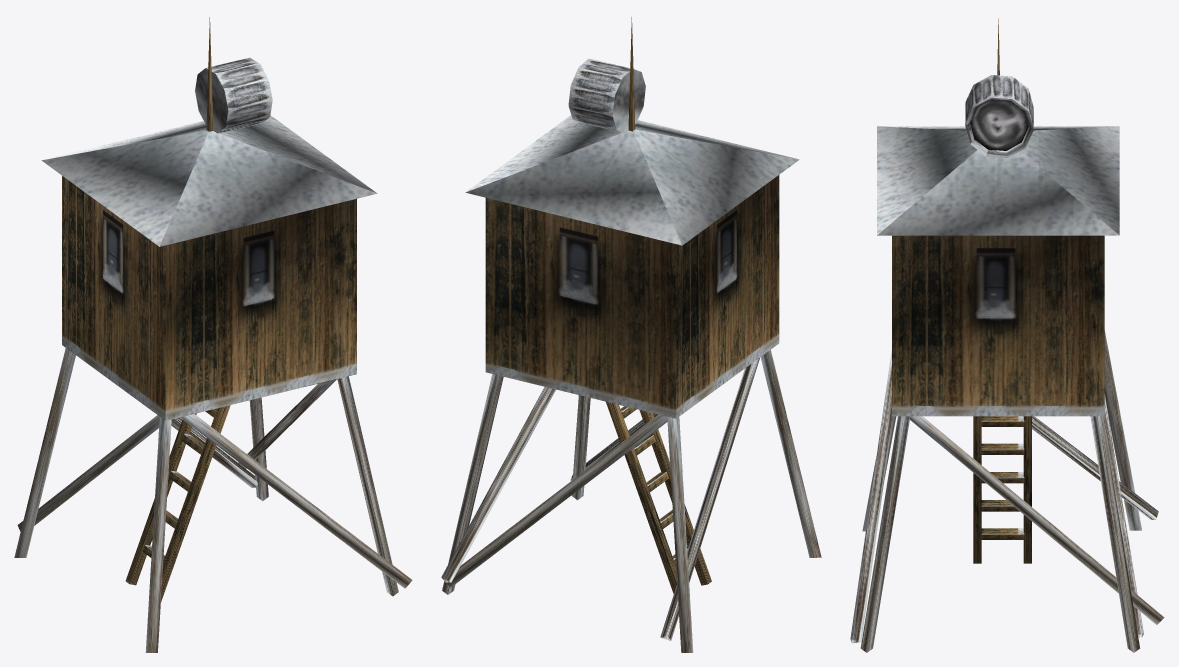
The model's file is Civilian - Civilian Building - Wood Tower - Snow - CBTower_s.glb.
3 renders of one model, left to right at view 1: azimuth 30°, elevation 25°; view 2: azimuth 150°, elevation 25°; view 3: azimuth 270°, elevation 25°, orthographic. The views are drawn at different scales.
Parts seen in each view (by area): view 1: CBTOWER_S; view 2: CBTOWER_S; view 3: CBTOWER_S.
Boxes of the visible parts, x1,y1,x2,y2 form: CBTOWER_S: (14, 17, 412, 652); CBTOWER_S: (441, 17, 821, 652); CBTOWER_S: (850, 18, 1164, 652).
Size of the model in its own units: 19.14 by 39.89 by 19.57.
Materials: 1 (1 with a texture image).
